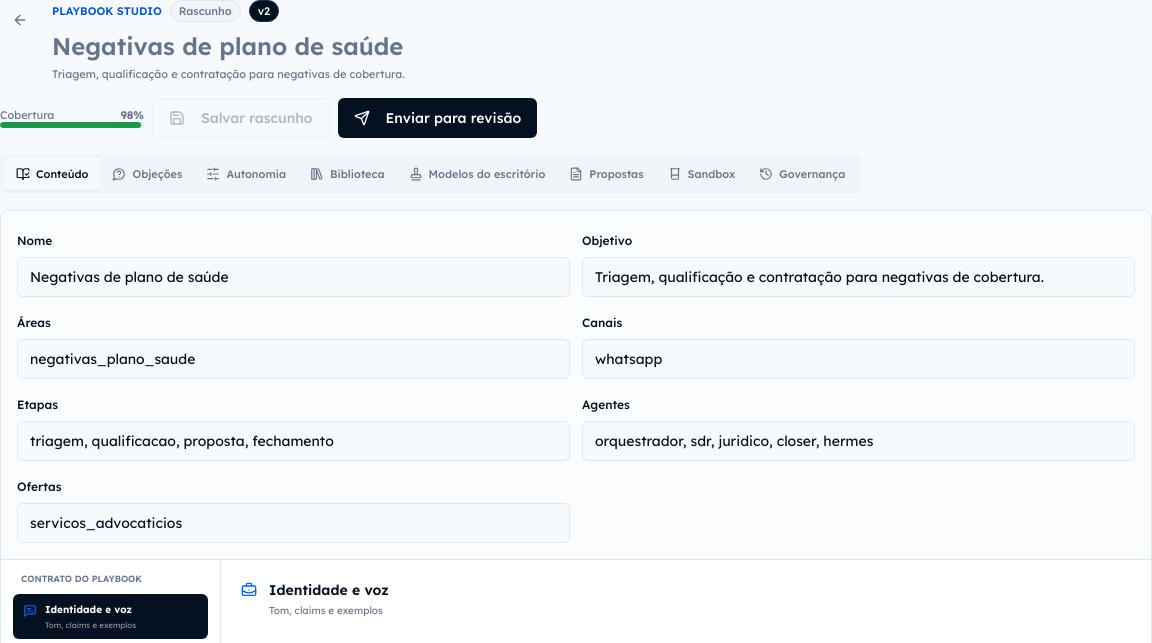
it: PlaybookEditorPage › edits the governed brand and FAQ library in the native Studio
The width and height of the screenshot is (1152, 643).
Later steps or results of the test are not shown.
Press the mouse on the tab "Biblioteca" at [347, 174], box [298,158,397,190]
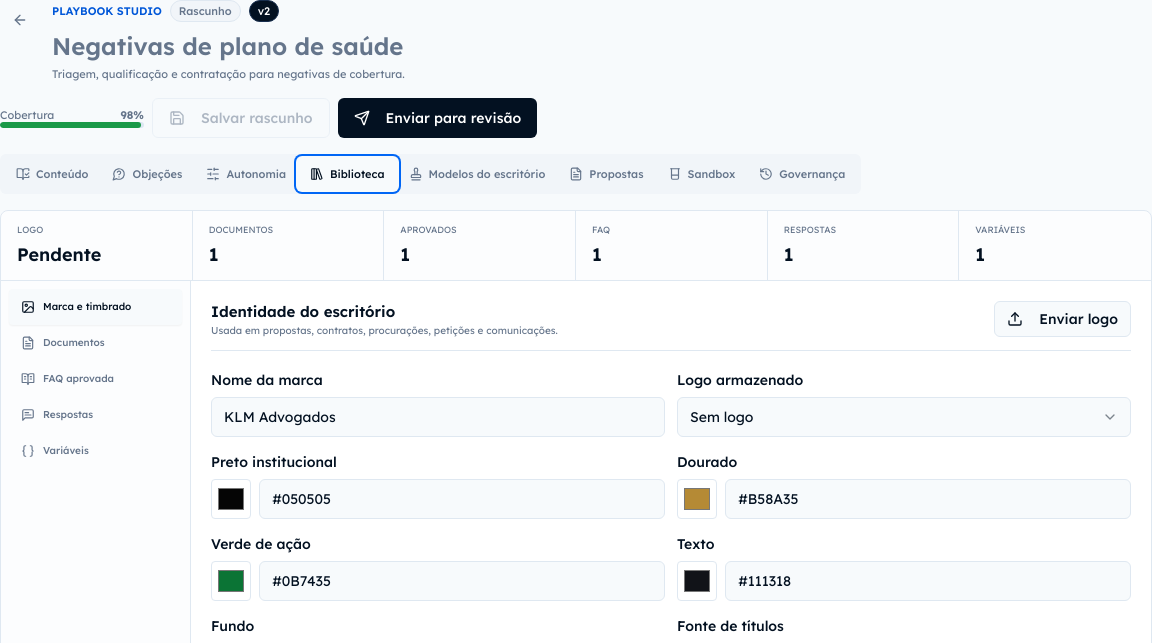
Click the tab "Biblioteca" at [347, 174], box [298,158,397,190]
Result: the heading "Identidade do escritório" is shown at [211,302,395,320]
